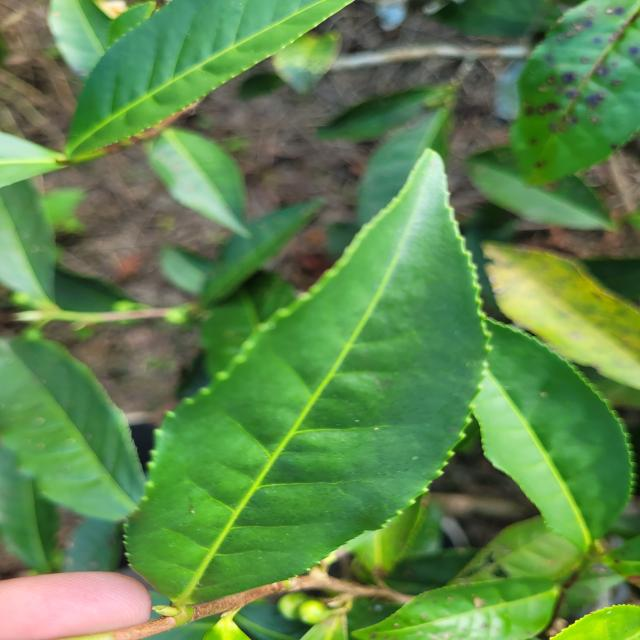Category D 7+ days, Not for Tea: (106, 119, 511, 636)
